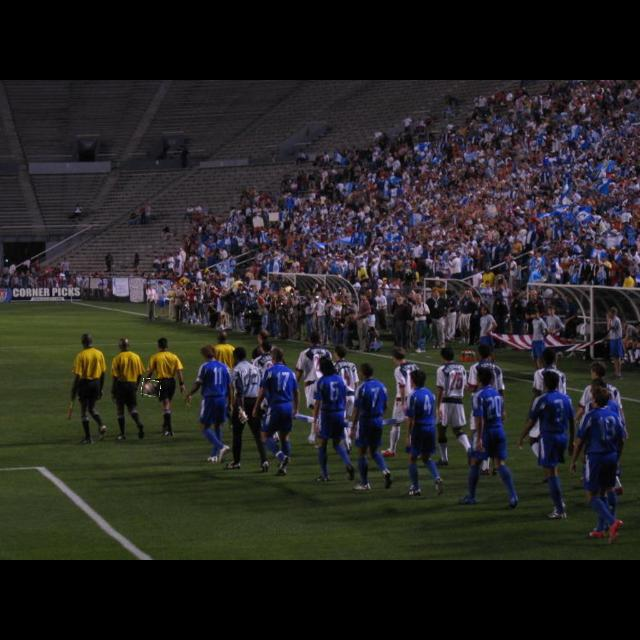Football: (142, 379, 160, 397)
